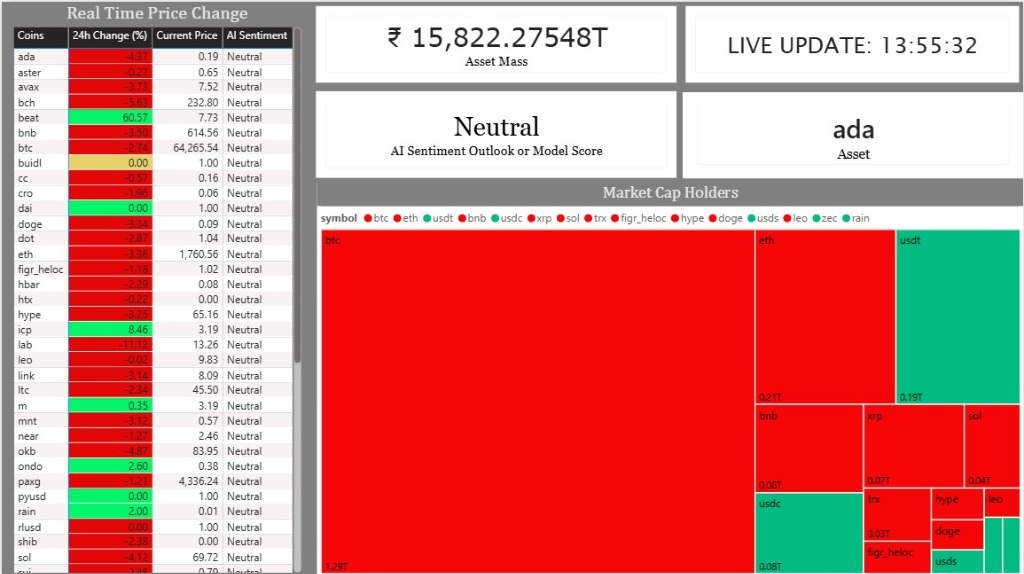

What the dashboard file says about the page in this screenshot:
{"tool":"powerbi","page":{"name":"Pg 1","canvas":[1280,720],"ordinal":0},"visuals":[{"type":"pivotTable","title":"Real Time Price Change","fields":{"Rows":["crypto_prices.symbol"],"Values":["Avg(crypto_prices.price_change_percentage_24h)","crypto_prices.Latest Price","Min(crypto_prices.sentiment_score)"]},"box":[10,0,370,720],"z":0},{"type":"treemap","title":" Market Cap Holders","fields":{"Group":["crypto_prices.symbol"],"Values":["Avg(crypto_prices.market_cap)"]},"box":[394.5,225.9,886,494.7],"z":1000},{"type":"cardVisual","title":"Clock","fields":{"Data":["crypto_prices.Live System Time"]},"box":[851.7,0,428.3,106.7],"z":2000},{"type":"cardVisual","fields":{"Data":["crypto_prices.Total Asset Mass"]},"box":[388.1,0,462.9,106.6],"z":3000},{"type":"cardVisual","fields":{"Data":["Min(crypto_prices.sentiment_score)"]},"box":[388.1,106.6,462.9,119.3],"z":4000},{"type":"cardVisual","fields":{"Data":["Min(crypto_prices.symbol)"]},"box":[852.6,112.9,427.9,108.2],"z":5000}]}

Visuals, with their boxes in screenshot pixels (x1, y1, x2, y2), scaled from the page's 1280x720 canvas onto the 1024x574 screenshot:
"Real Time Price Change" pivotTable: pyautogui.locateOnScreen(8, 0, 304, 573)
" Market Cap Holders" treemap: pyautogui.locateOnScreen(316, 180, 1023, 573)
"Clock" cardVisual: pyautogui.locateOnScreen(681, 0, 1023, 85)
cardVisual - crypto_prices.Total Asset Mass: pyautogui.locateOnScreen(310, 0, 681, 85)
cardVisual - Min(crypto_prices.sentiment_score): pyautogui.locateOnScreen(310, 85, 681, 180)
cardVisual - Min(crypto_prices.symbol): pyautogui.locateOnScreen(682, 90, 1023, 176)
